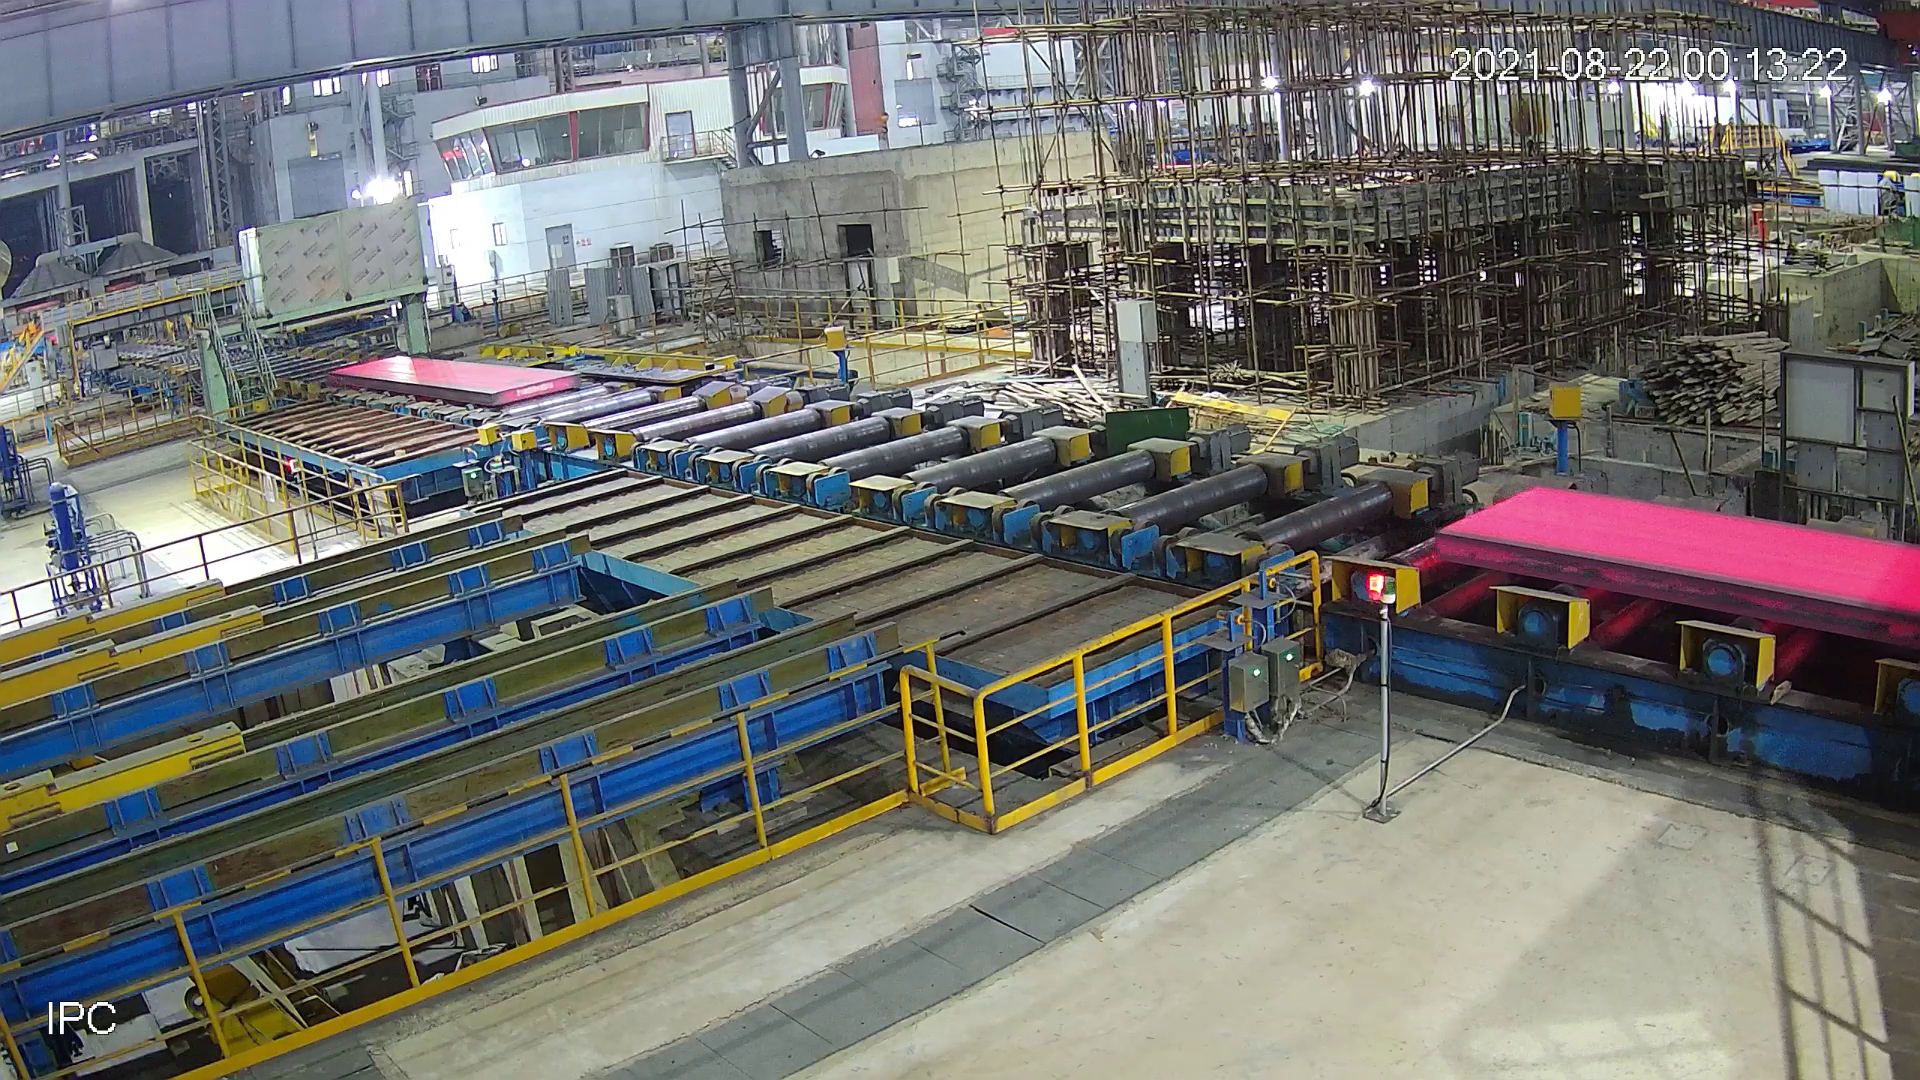slab: (1425, 479, 1920, 653), (320, 347, 582, 421)
